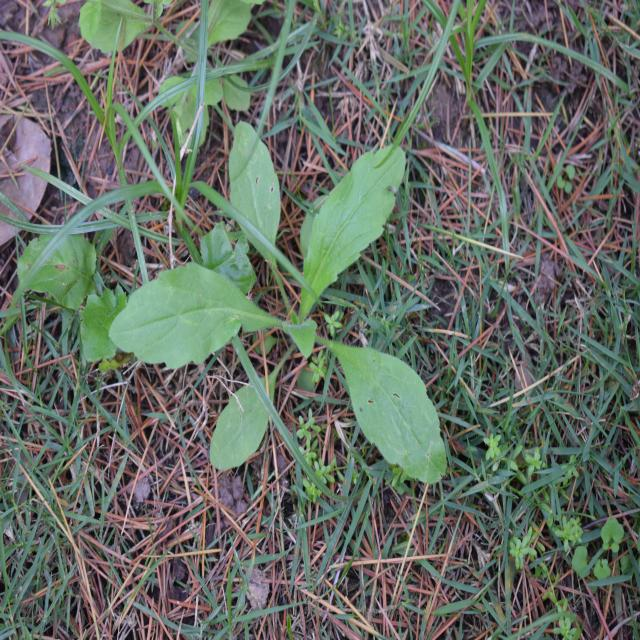horseweed: (161, 168, 446, 477)
